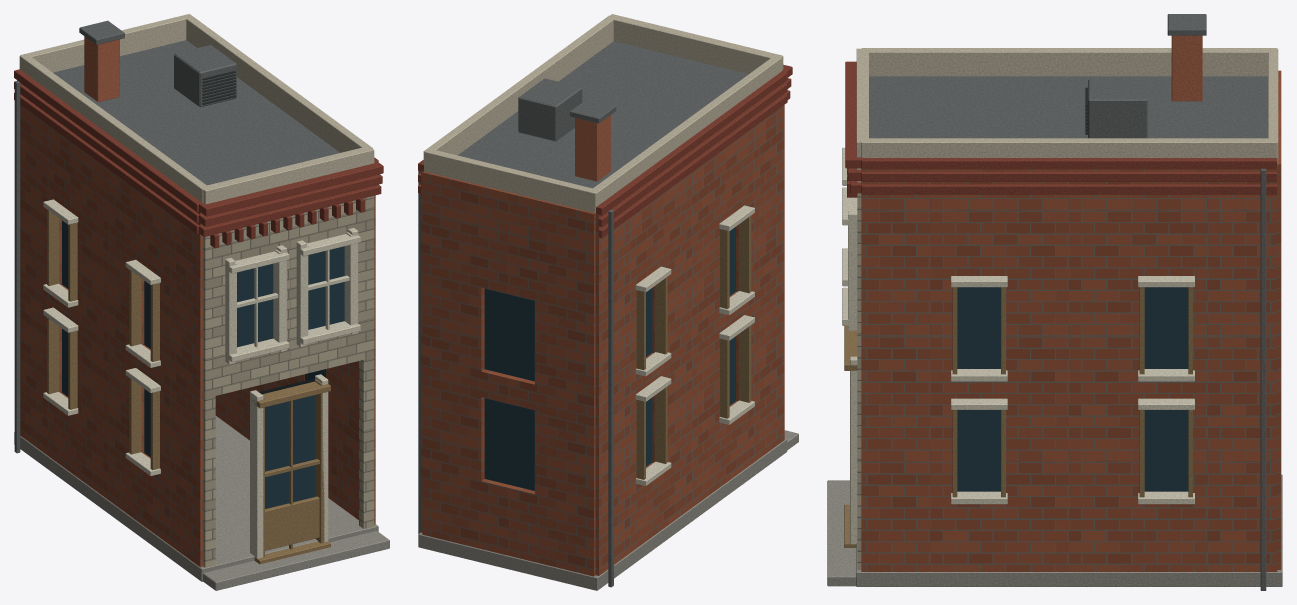
The model's file is CLSTGA14_lod1.glb.
3 views of the same model, side by side, from view 1: azimuth 30°, elevation 25°; view 2: azimuth 150°, elevation 25°; view 3: azimuth 270°, elevation 25° (orthographic). The views are drawn at different scales.
Parts seen in each view (by area): view 1: CLSTGA14_LOD1; view 2: CLSTGA14_LOD1; view 3: CLSTGA14_LOD1.
Boxes of the visible parts, x1=… form: CLSTGA14_LOD1: x1=14, y1=14, x2=389, y2=590; CLSTGA14_LOD1: x1=418, y1=14, x2=798, y2=590; CLSTGA14_LOD1: x1=827, y1=14, x2=1282, y2=590.
Bounding box in the file's own units: 3.71 × 7.85 × 6.57.
12 materials, 10 textured.
